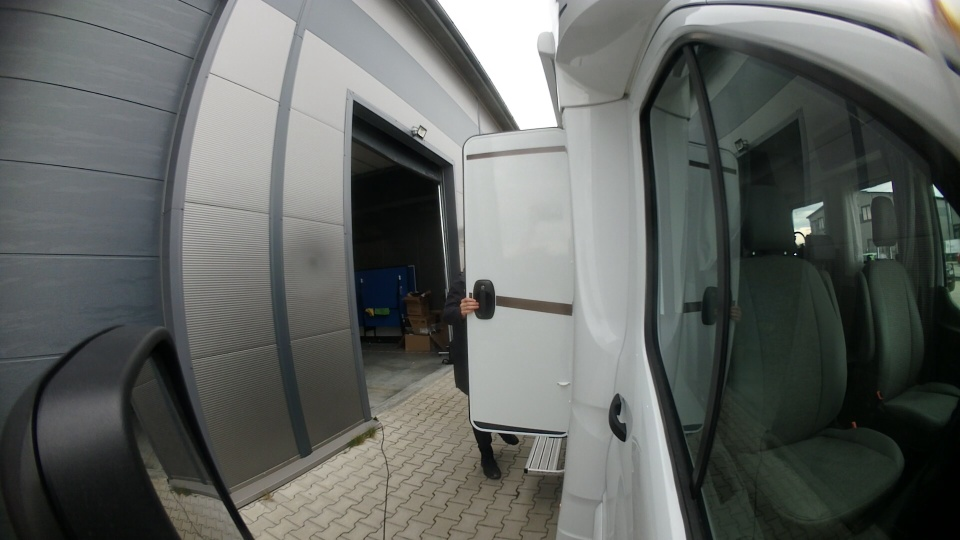door_front: (459, 125, 580, 440)
step_front: (522, 430, 576, 475)
